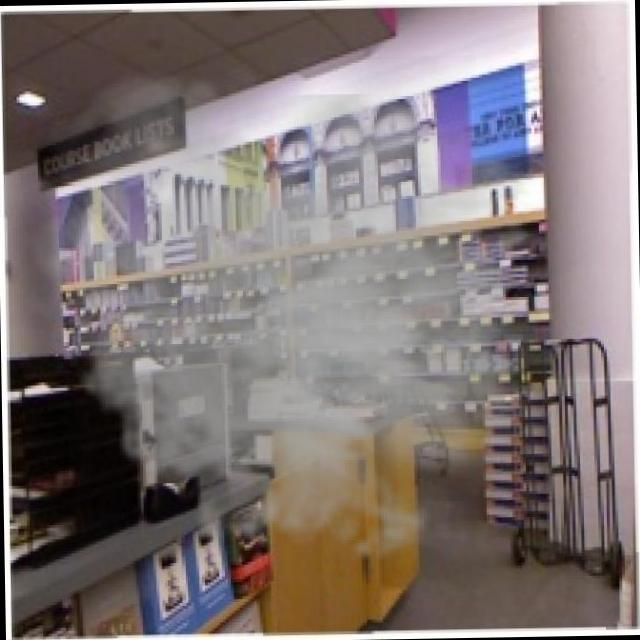Smoke: (9, 53, 581, 582)
